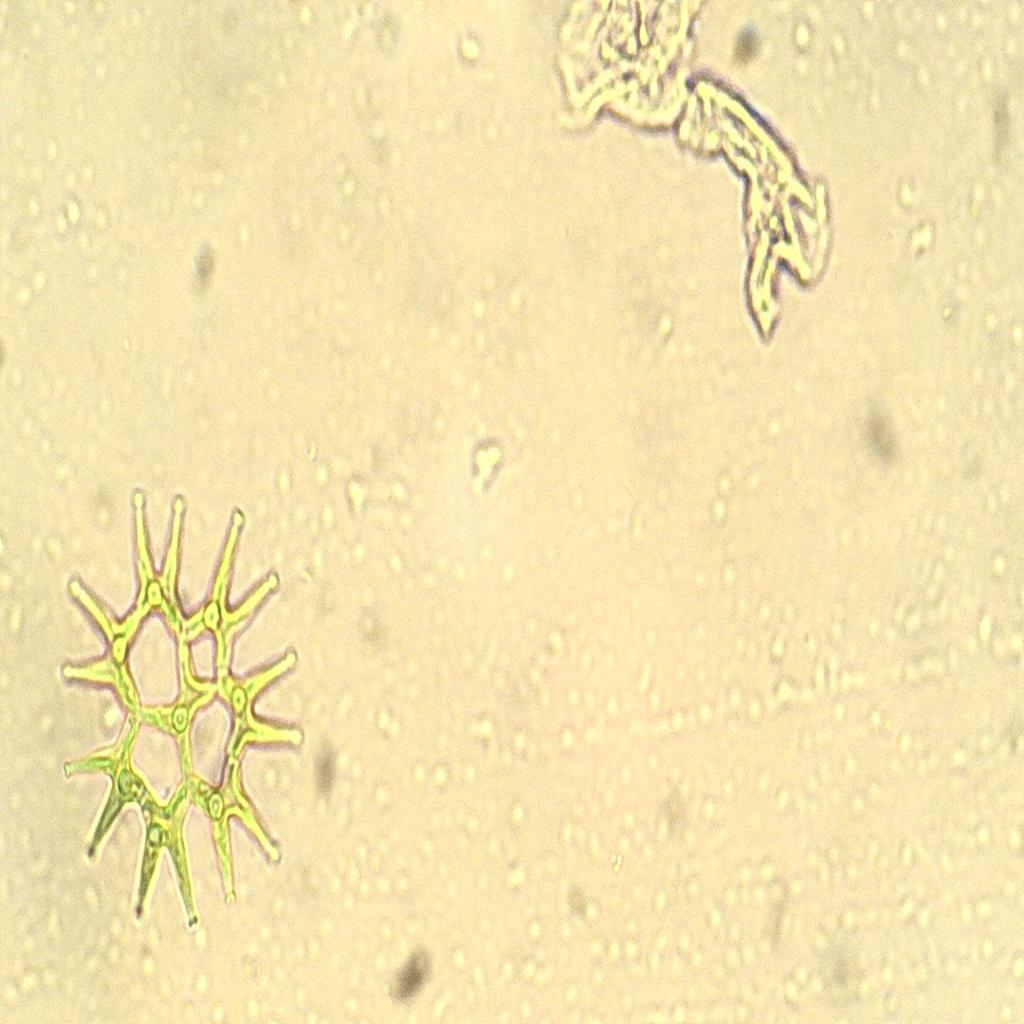Pediastrum_75T: (50, 472, 312, 950)
